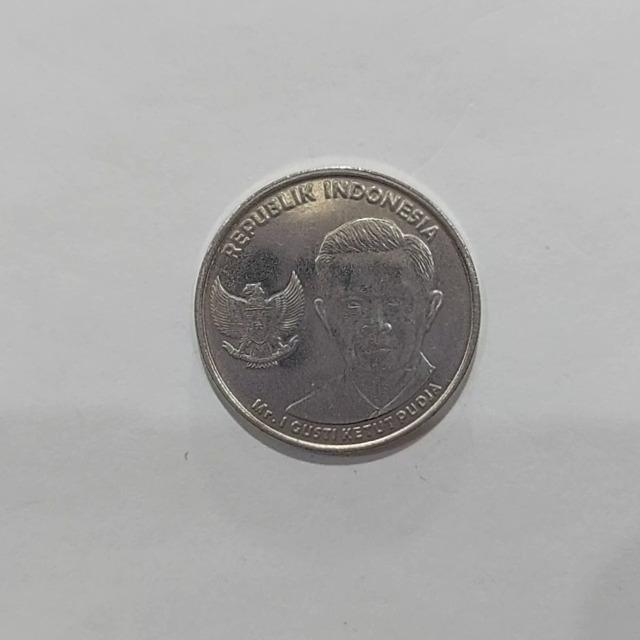Rp100: (192, 162, 482, 462)
